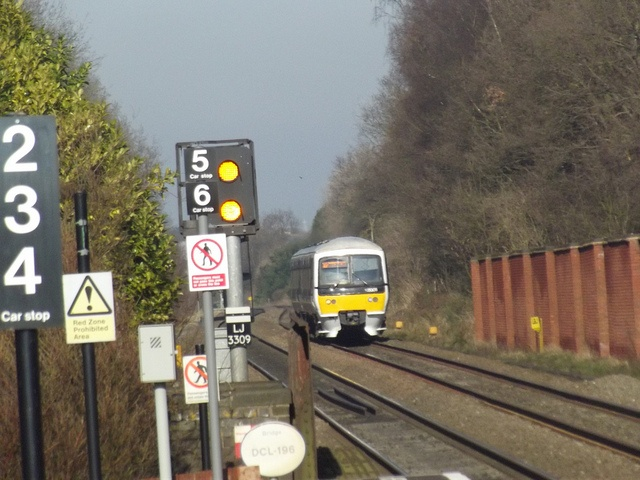traffic light: (176, 136, 436, 375)
